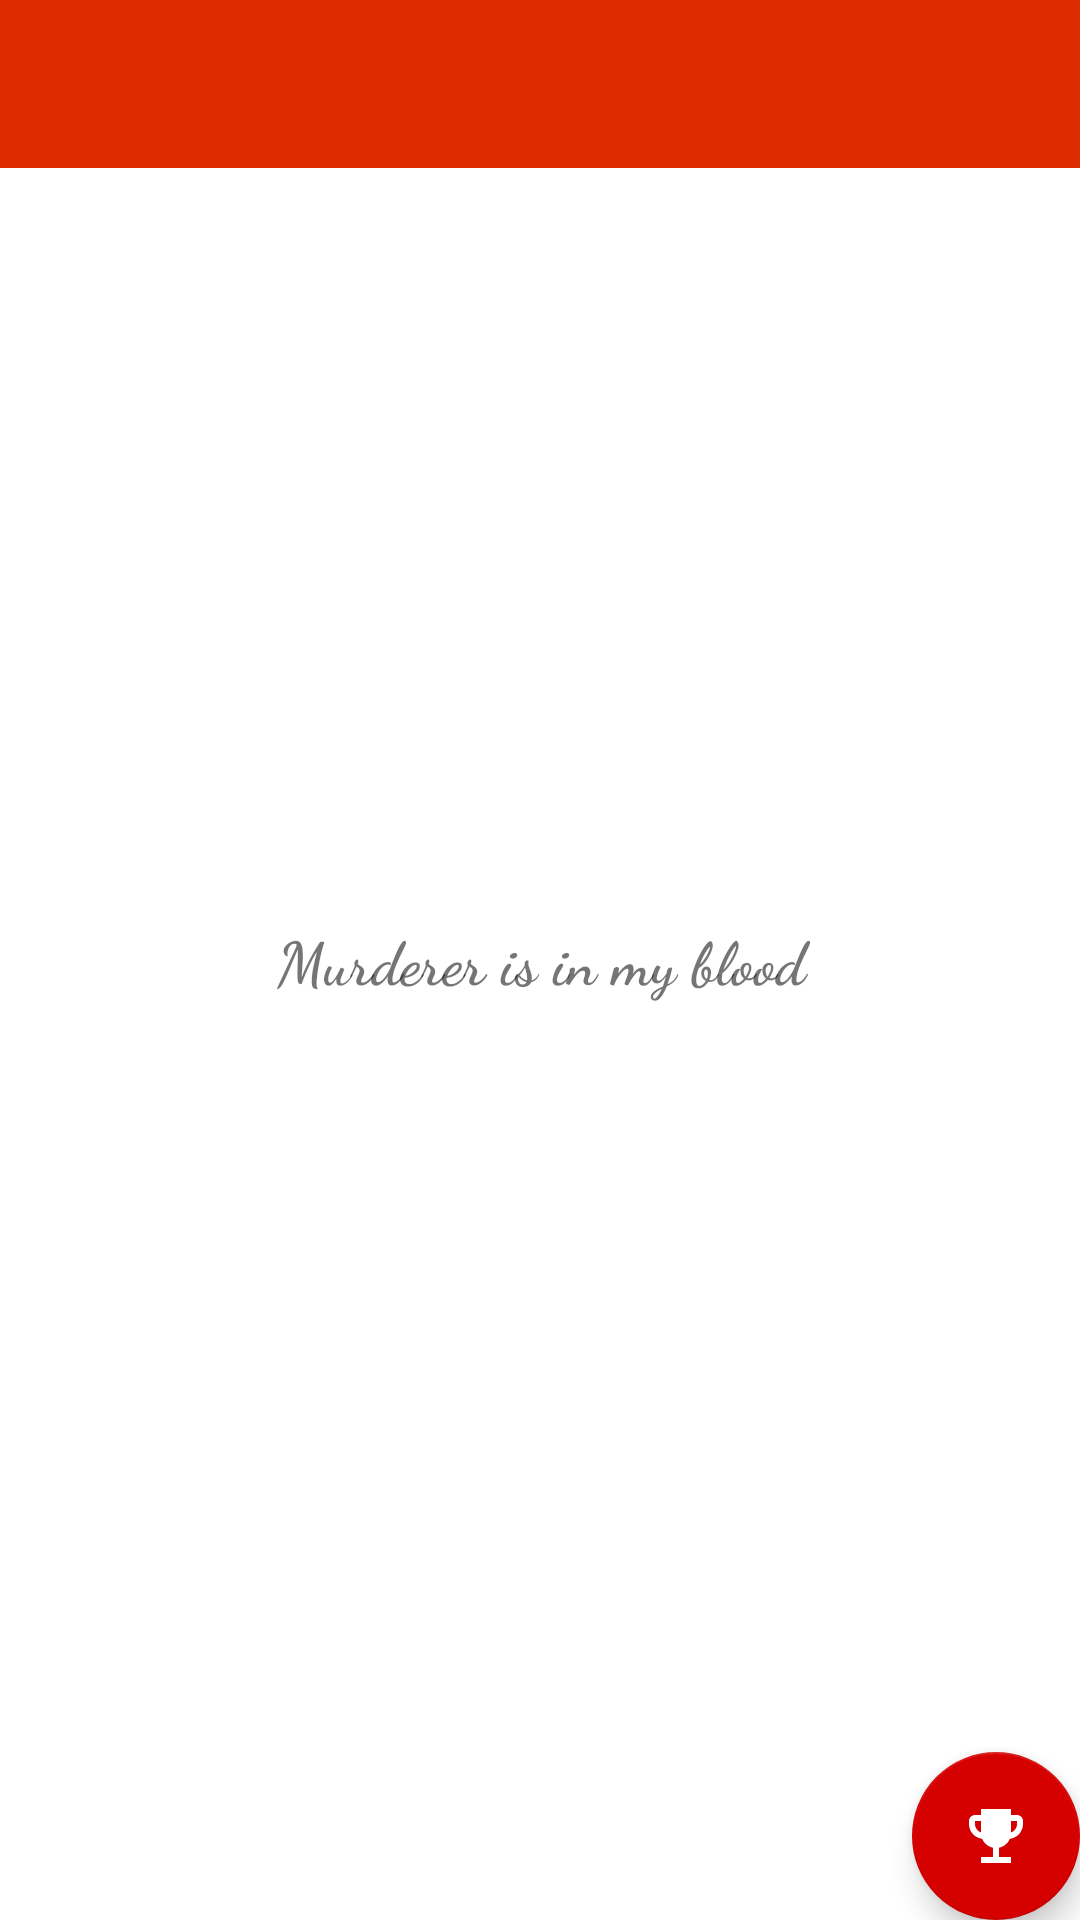

Where icons sit on this 1080px x 1920px app screen, as bbox=(x1, y1, x2, y2):
emoji events: bbox=(912, 1752, 1080, 1920)
